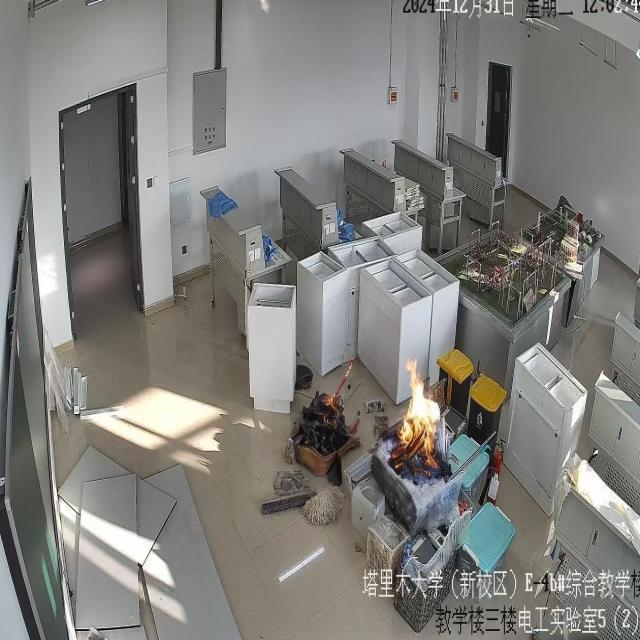smoke: (398, 352, 439, 463)
